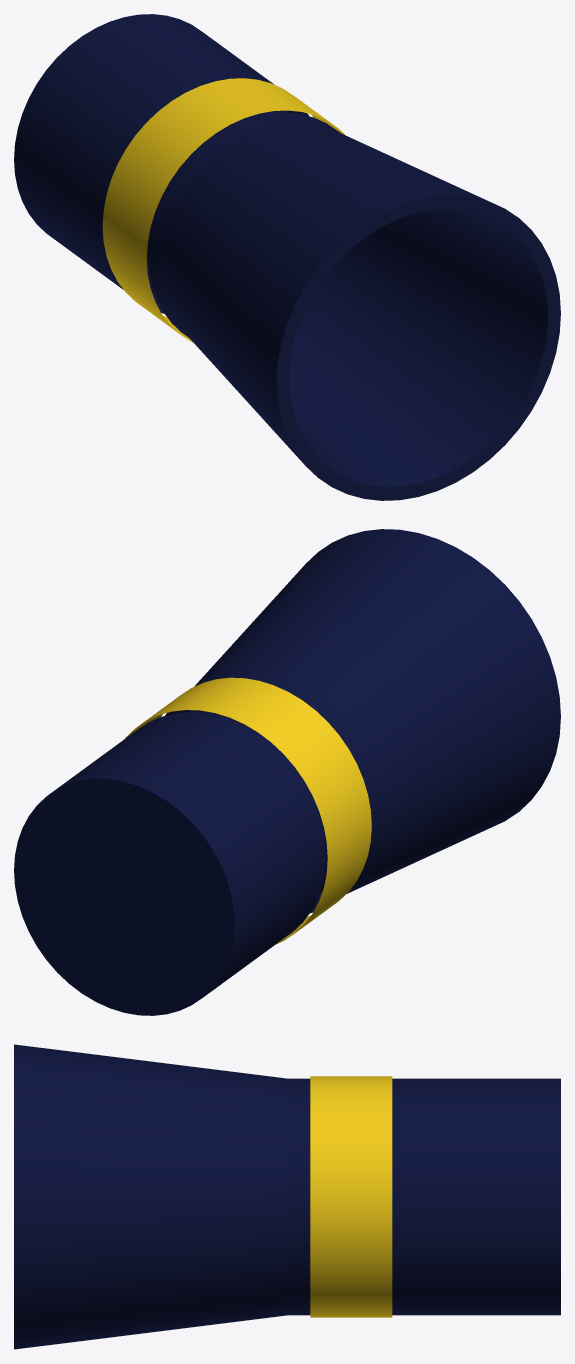
Rendered from blue_cup_with_yellow_stripe.obj.
3 views of the same model, one above another, from view 1: azimuth 30°, elevation 25°; view 2: azimuth 150°, elevation 25°; view 3: azimuth 270°, elevation 25° (orthographic). The views are drawn at different scales.
Visible parts, largest first — view 1: part6, part4, part1, part2, part5, part3; view 2: part4, part0, part1, part2, part3, part6; view 3: part4, part1, part2, part3.
Boxes of the visible parts, x1,y1,x2,y2 form: part6: (146,110,548,487); part4: (161,121,488,464); part1: (14,14,308,313); part2: (102,78,345,342); part5: (276,195,560,500); part3: (149,112,339,337); part4: (173,529,560,906); part0: (14,778,234,1015); part1: (49,712,325,997); part2: (125,677,371,944); part3: (165,671,381,913); part6: (187,710,327,893); part4: (14,1044,287,1349); part1: (392,1078,560,1315); part2: (310,1076,392,1317); part3: (287,1078,310,1315).
Bounding box in the file's own units: 0.067 × 0.067 × 0.12.
